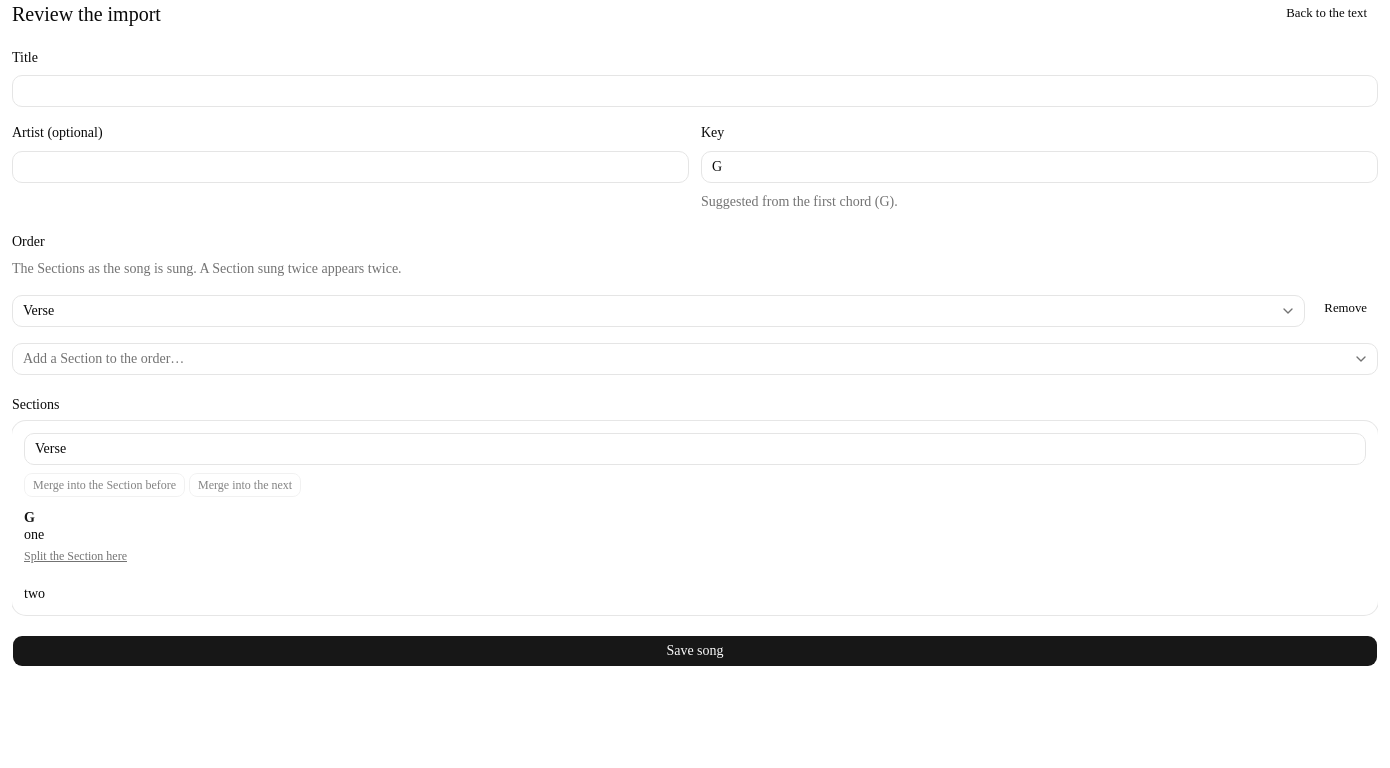
Scenario: reviewing an import › splits a Section at a line into a new unnamed one that must be named
Click the button "Split the Section here" at (76, 556), box x1=24 y1=548 x2=127 y2=564
(page scrolled)
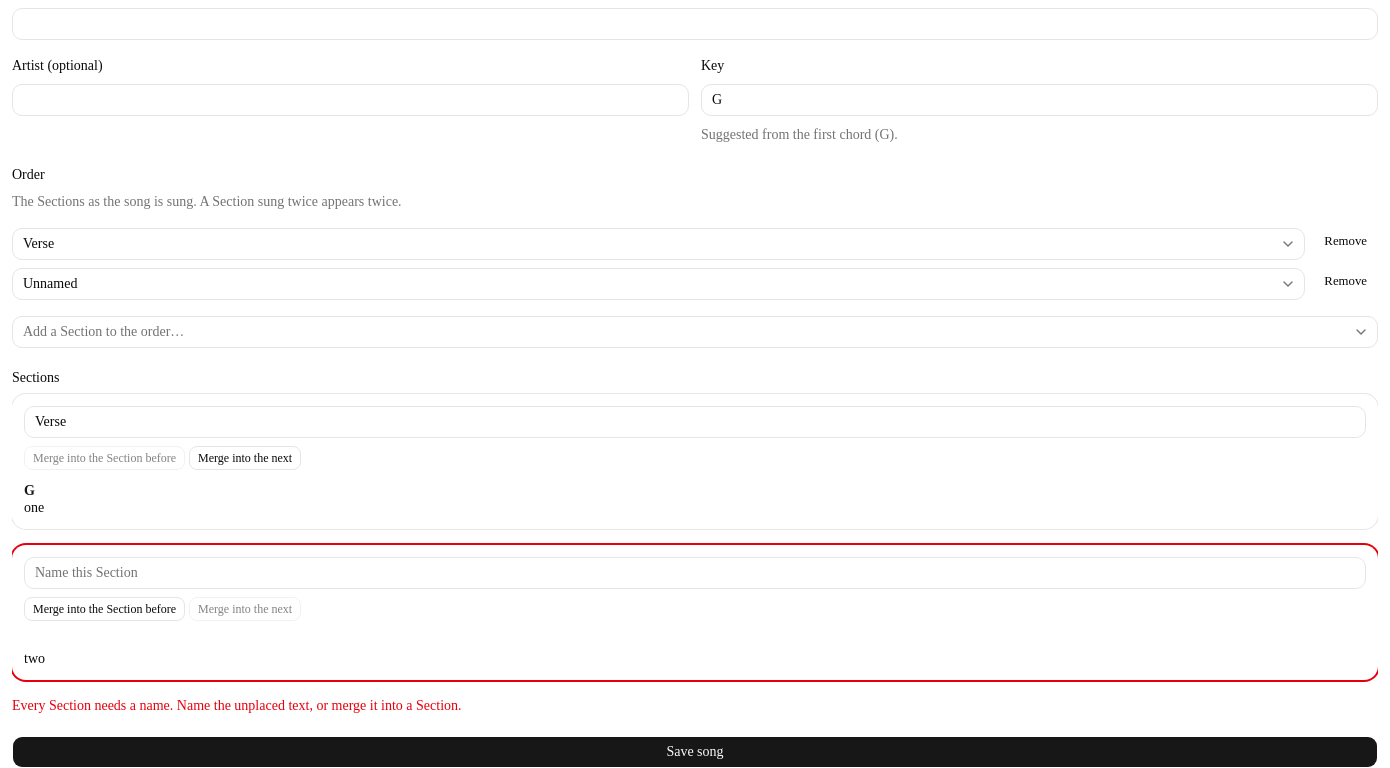
Expected: the text "Every Section needs a name" is shown, x1=12 y1=698 x2=462 y2=712
